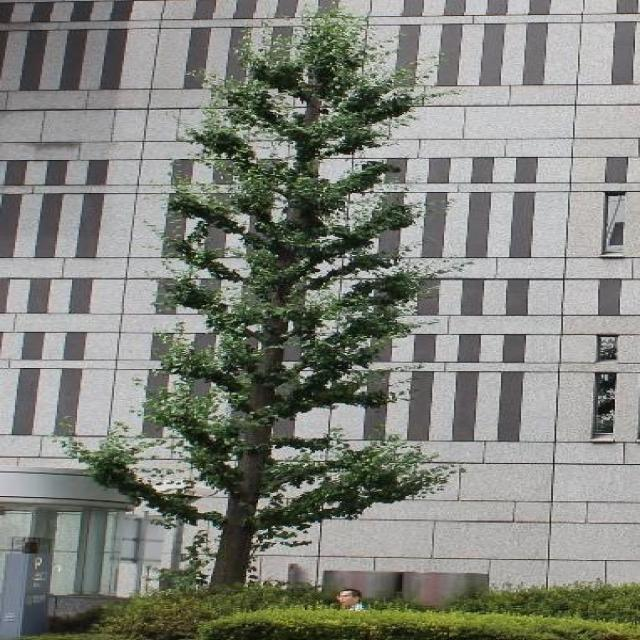ginkgo: (54, 6, 472, 598)
